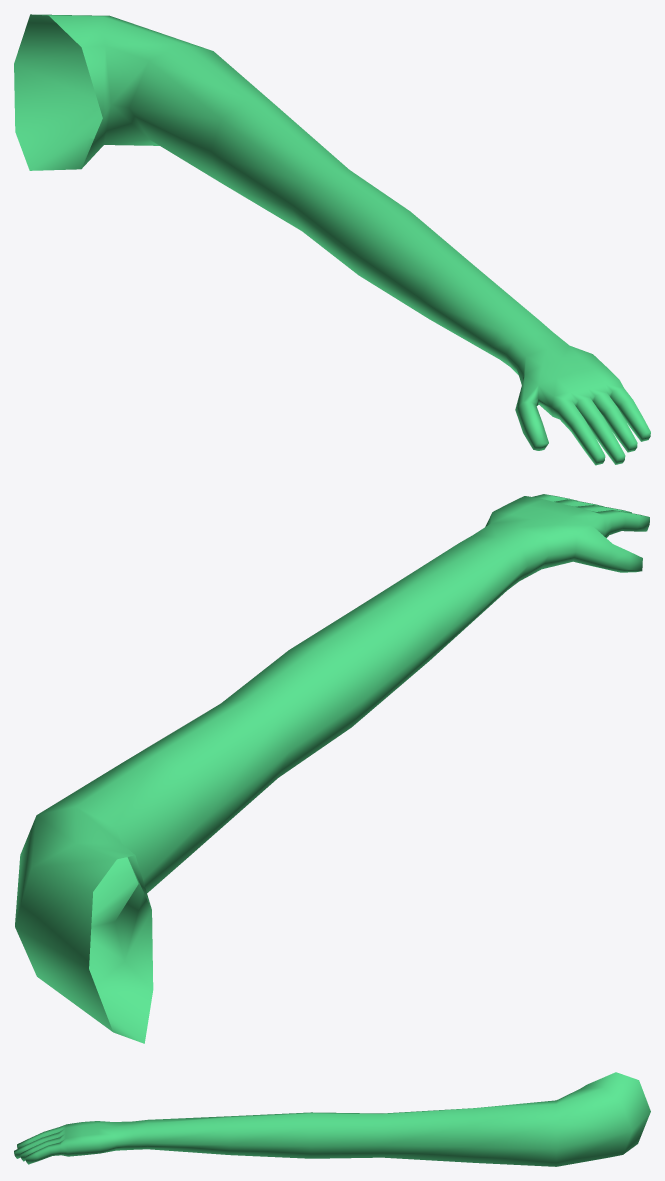
Rendered from NM_zombie_leftarm.obj.
The picture shows the model from 3 angles, top to bottom: view 1: azimuth 30°, elevation 25°; view 2: azimuth 150°, elevation 25°; view 3: azimuth 270°, elevation 25°; orthographic projection. The views are drawn at different scales.
Parts seen in each view (by area): view 1: Cylinder001; view 2: Cylinder001; view 3: Cylinder001.
Part boxes in pixels (<box>): Cylinder001: <box>14,14,650,465</box>; Cylinder001: <box>15,494,649,1043</box>; Cylinder001: <box>14,1072,650,1166</box>.
Bounding box in the file's own units: 5.11 × 4.84 × 31.03.
